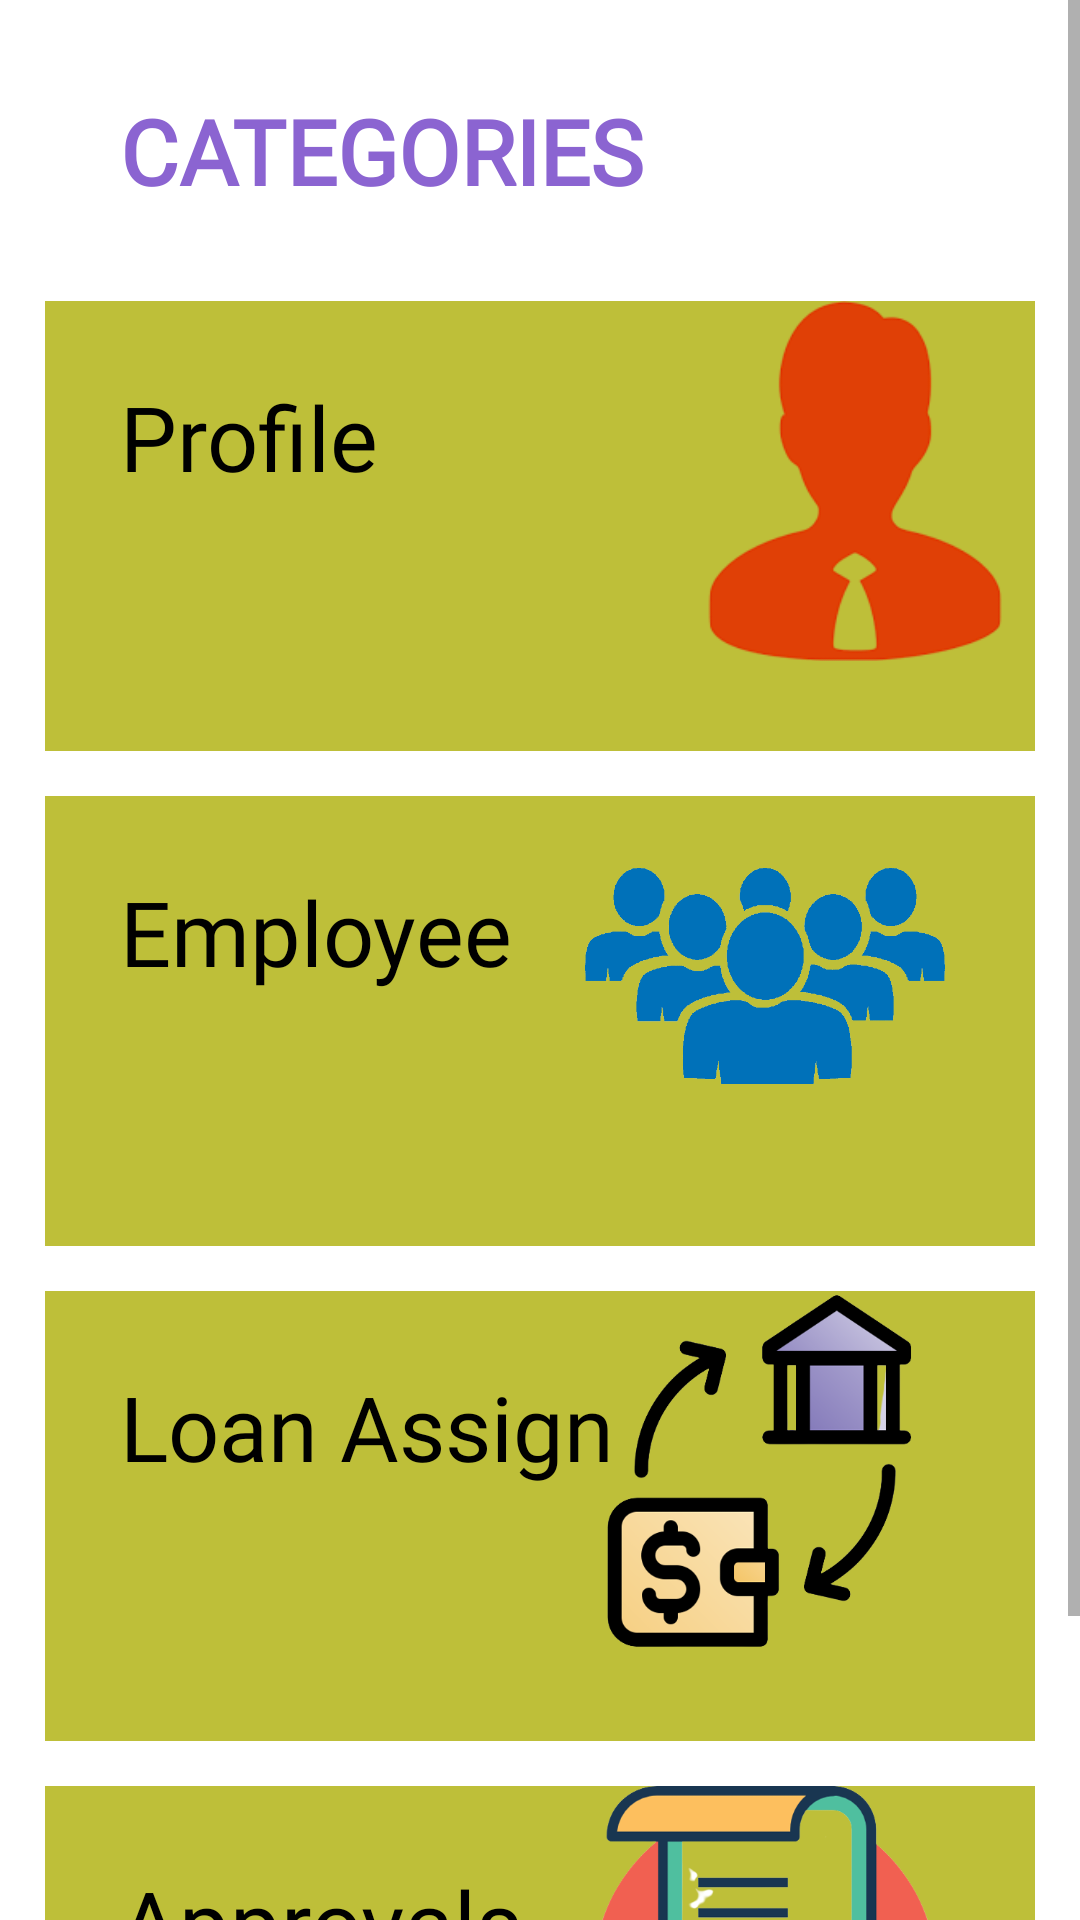

Named icons in this screenshot (1080 × 1920) and their centers, (x,y):
profiledddd: (855,481)
